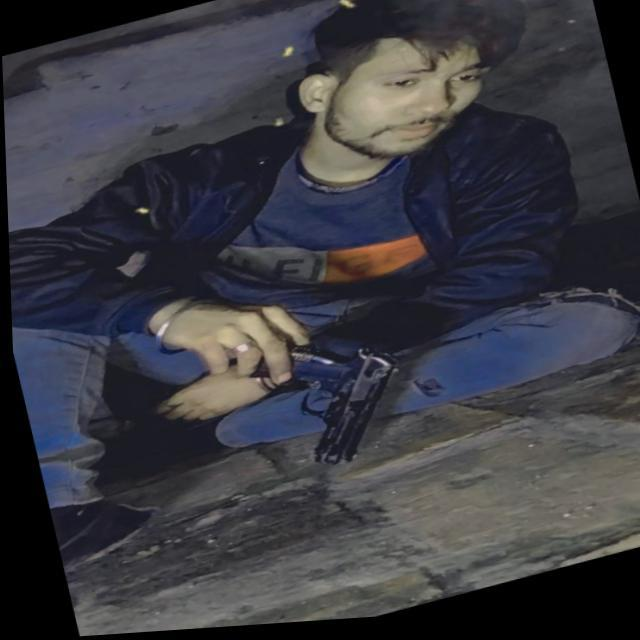weapon: (235, 314, 428, 491)
